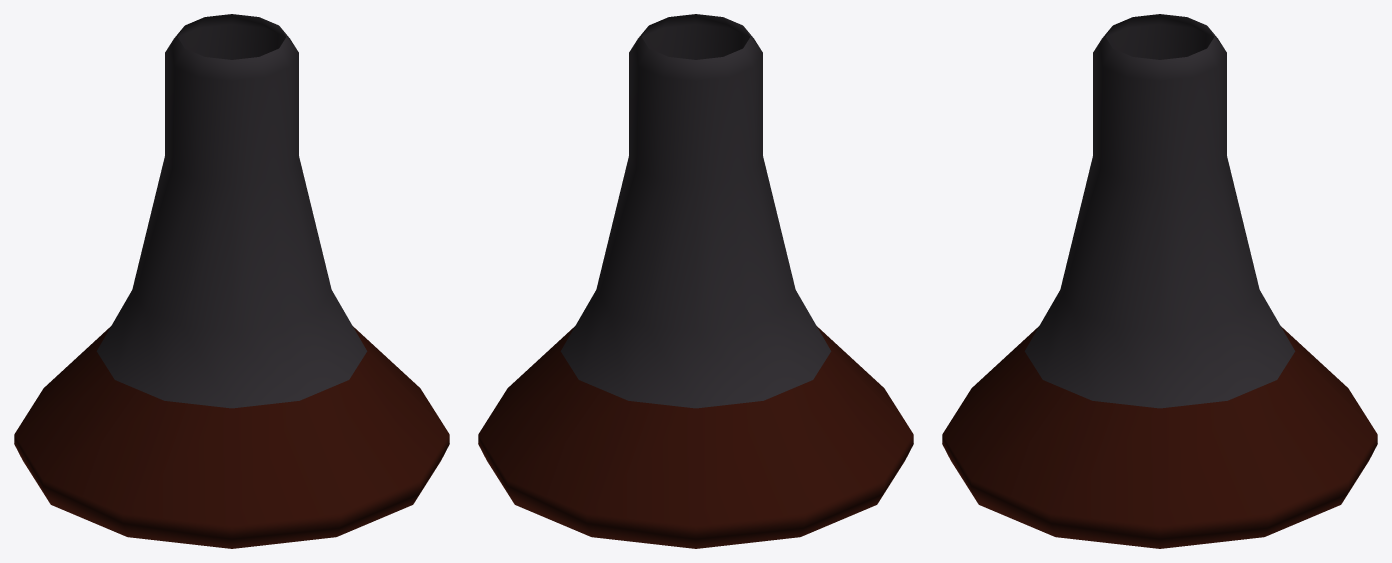
File: Decanter.fbx
The picture shows the model from 3 angles, left to right: view 1: azimuth 30°, elevation 25°; view 2: azimuth 150°, elevation 25°; view 3: azimuth 270°, elevation 25°; orthographic projection.
Visible parts, largest first — view 1: Decanter; view 2: Decanter; view 3: Decanter.
Part boxes in pixels (x1,y1,x2,y2): Decanter: (14,14,449,548); Decanter: (478,14,913,548); Decanter: (942,14,1377,548).
Size of the model in its own units: 0.387 by 0.4275 by 0.387.
